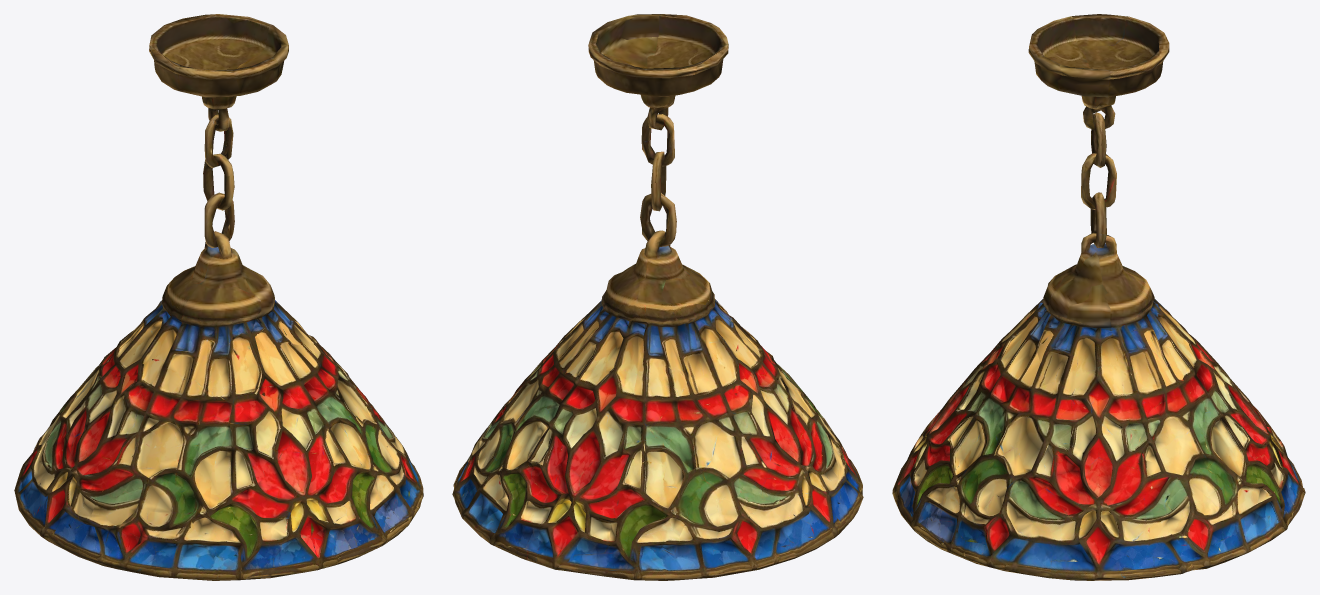
File: d_lamp_tiffany.glb
3 renders of one model, left to right at view 1: azimuth 30°, elevation 25°; view 2: azimuth 150°, elevation 25°; view 3: azimuth 270°, elevation 25°, orthographic.
Size of the model in its own units: 1.56 by 1.9 by 1.57.
Materials: 1 (1 with a texture image).
